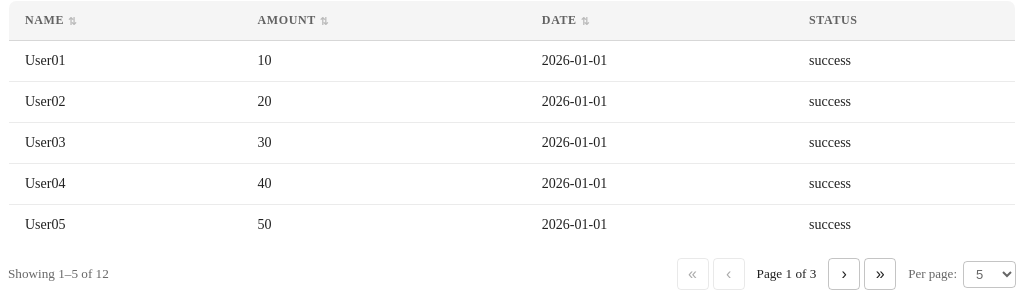
Test: DataTable — pagination › navigates to last page
Click the button named "last page": (880, 274) [864, 258, 896, 290]
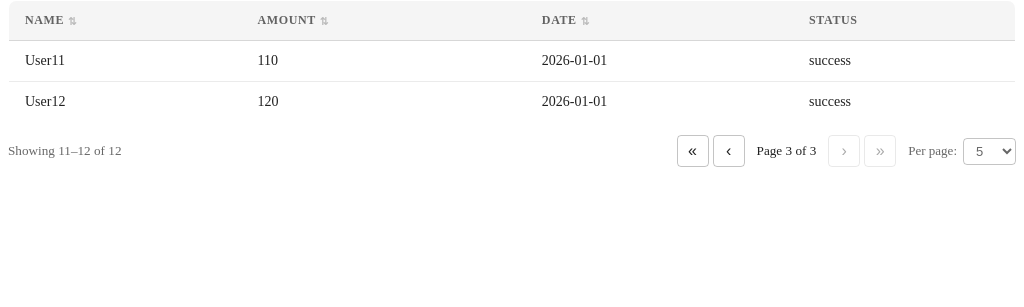
Expected: the text "Page 3 of 3" is shown, [756, 143, 816, 158]
